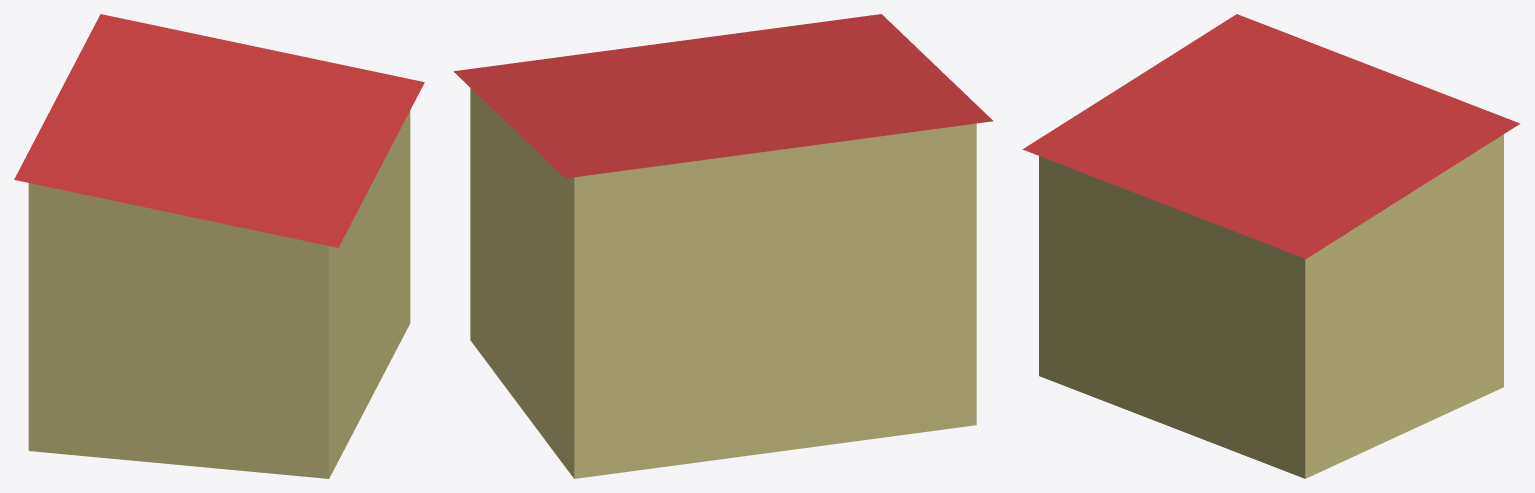
3 views of the same model, side by side, from view 1: azimuth 30°, elevation 25°; view 2: azimuth 150°, elevation 25°; view 3: azimuth 270°, elevation 25° (orthographic). The views are drawn at different scales.
Size of the model in its own units: 10.55 by 10.64 by 6.2.
